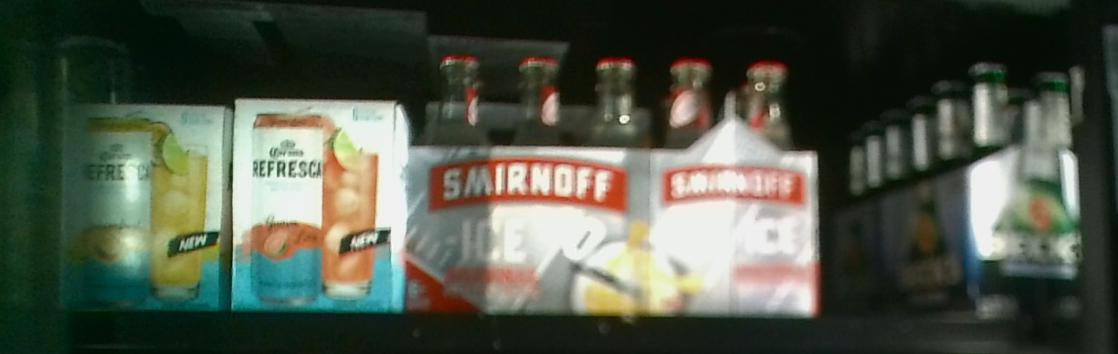bottle: (413, 51, 649, 313), (651, 54, 821, 320), (230, 96, 404, 316), (61, 102, 231, 311), (963, 59, 1087, 315)
